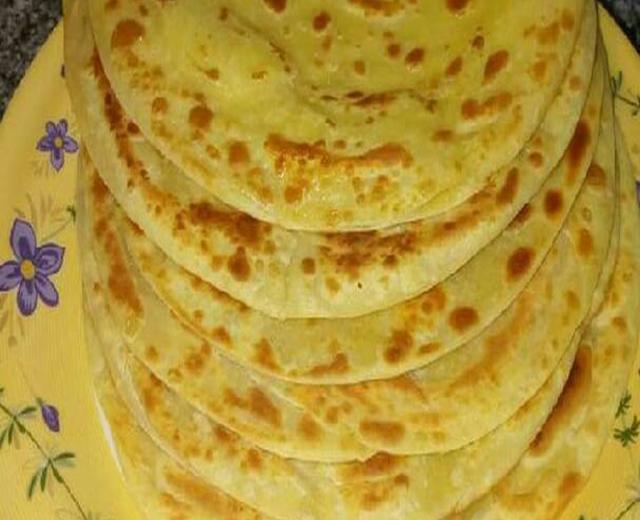chapati: (61, 0, 639, 519)
